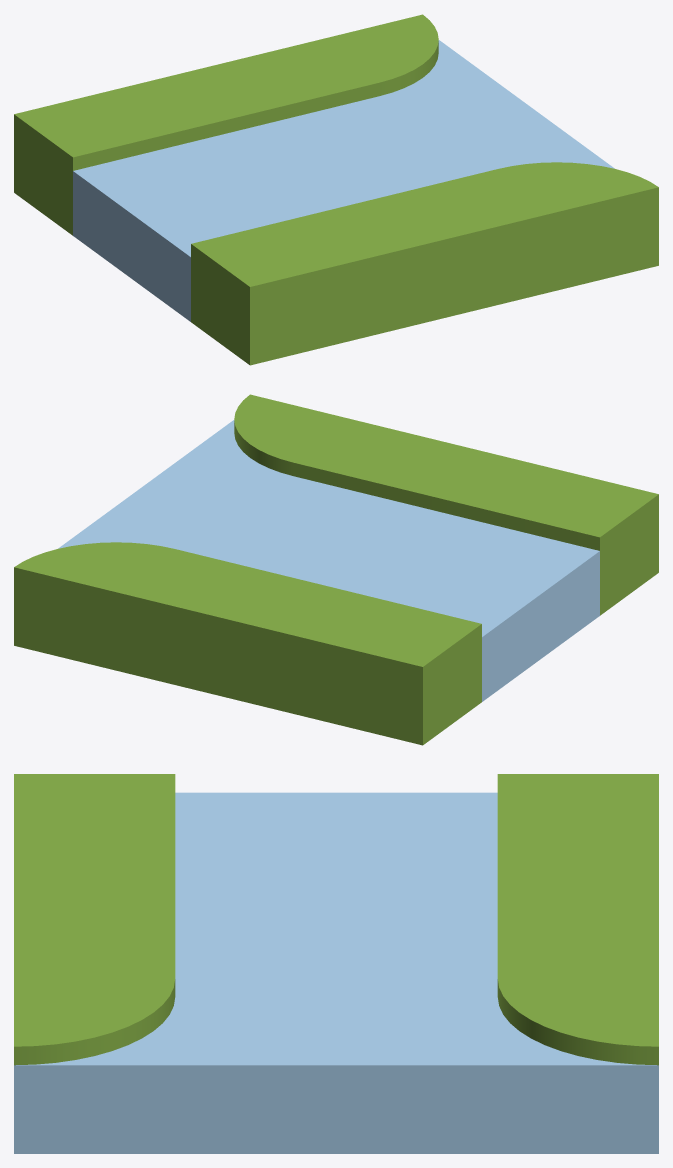
The model's file is roadTile_176.obj.
3 views of the same model, one above another, from view 1: azimuth 30°, elevation 25°; view 2: azimuth 150°, elevation 25°; view 3: azimuth 270°, elevation 25° (orthographic). The views are drawn at different scales.
Visible parts, largest first — view 1: Mesh1_Group1_Model.175; view 2: Mesh1_Group1_Model.175; view 3: Mesh1_Group1_Model.175.
Part boxes in pixels (x1,y1,x2,y2): Mesh1_Group1_Model.175: (14, 14, 658, 365); Mesh1_Group1_Model.175: (14, 394, 658, 745); Mesh1_Group1_Model.175: (14, 774, 658, 1153).
Size of the model in its own units: 3 by 0.55 by 3.
